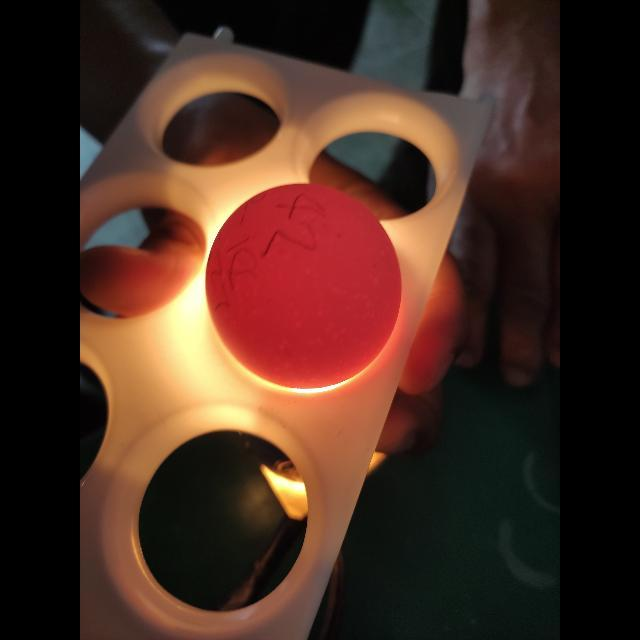Infertile: (202, 176, 406, 397)
